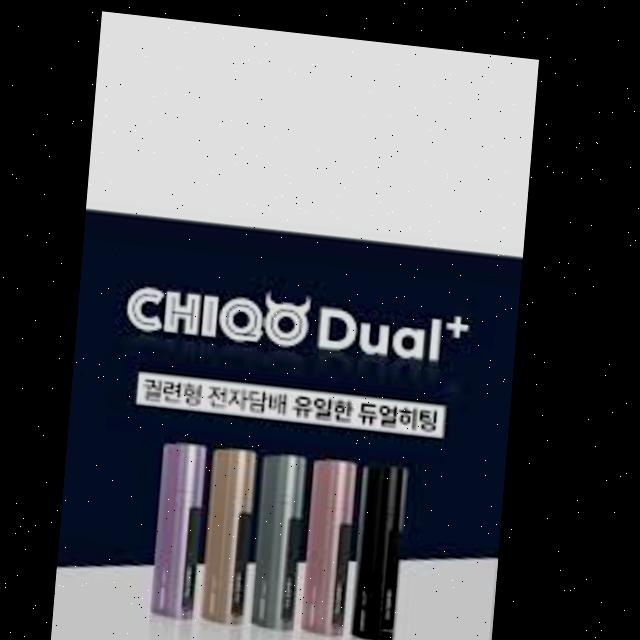vape: (357, 451, 418, 638), (153, 432, 215, 614), (208, 437, 267, 624), (260, 440, 315, 626), (308, 450, 365, 628)
